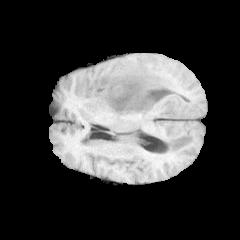glioma: (90, 57, 178, 117)
